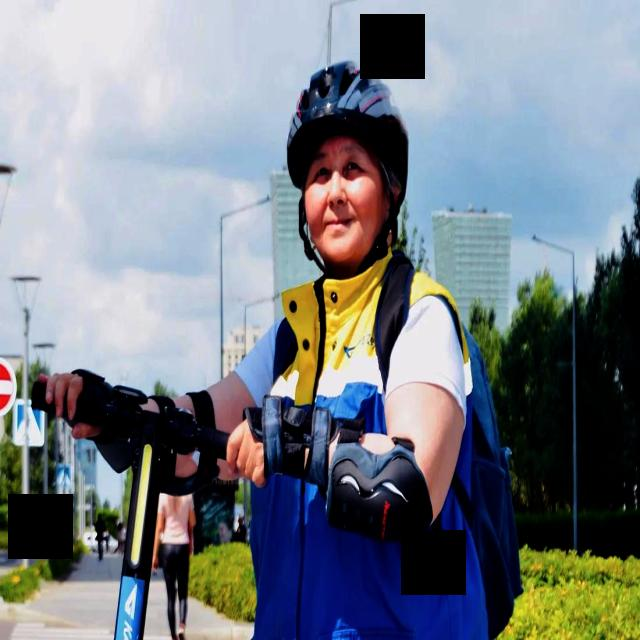Helmet: (288, 57, 410, 266)
